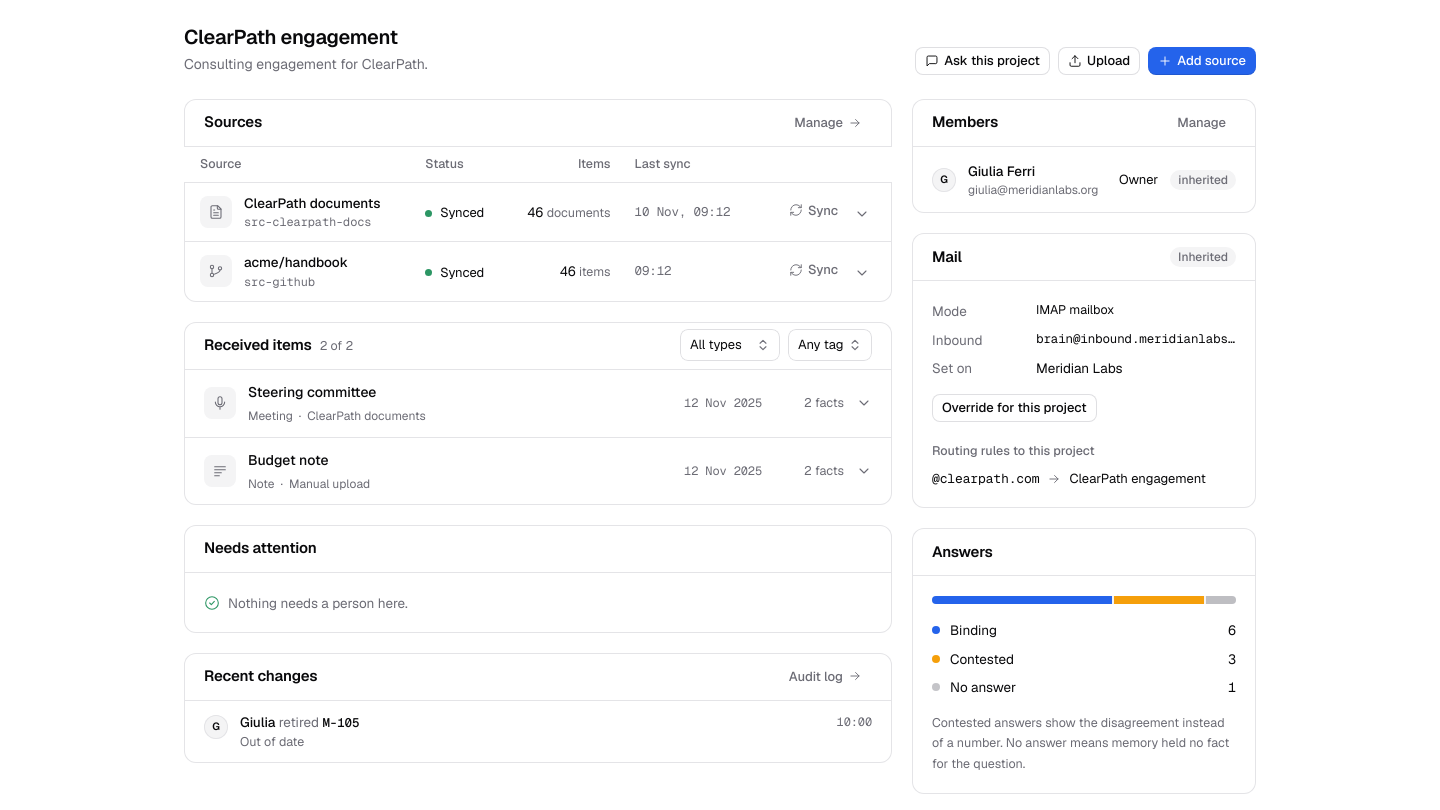
Scenario: Project › upload and add source › clears the item filters once an upload went through, so that the new item is listed
This screenshot has width=1440, height=810.
Expected: the heading "ClearPath engagement" is shown, x1=184 y1=24 x2=428 y2=50
Expected: the text "src-clearpath-docs" is shown, x1=244 y1=213 x2=380 y2=231
Select "Note" in the dropdown named "Filter items by type" at (730, 345), box x1=680 y1=329 x2=780 y2=361
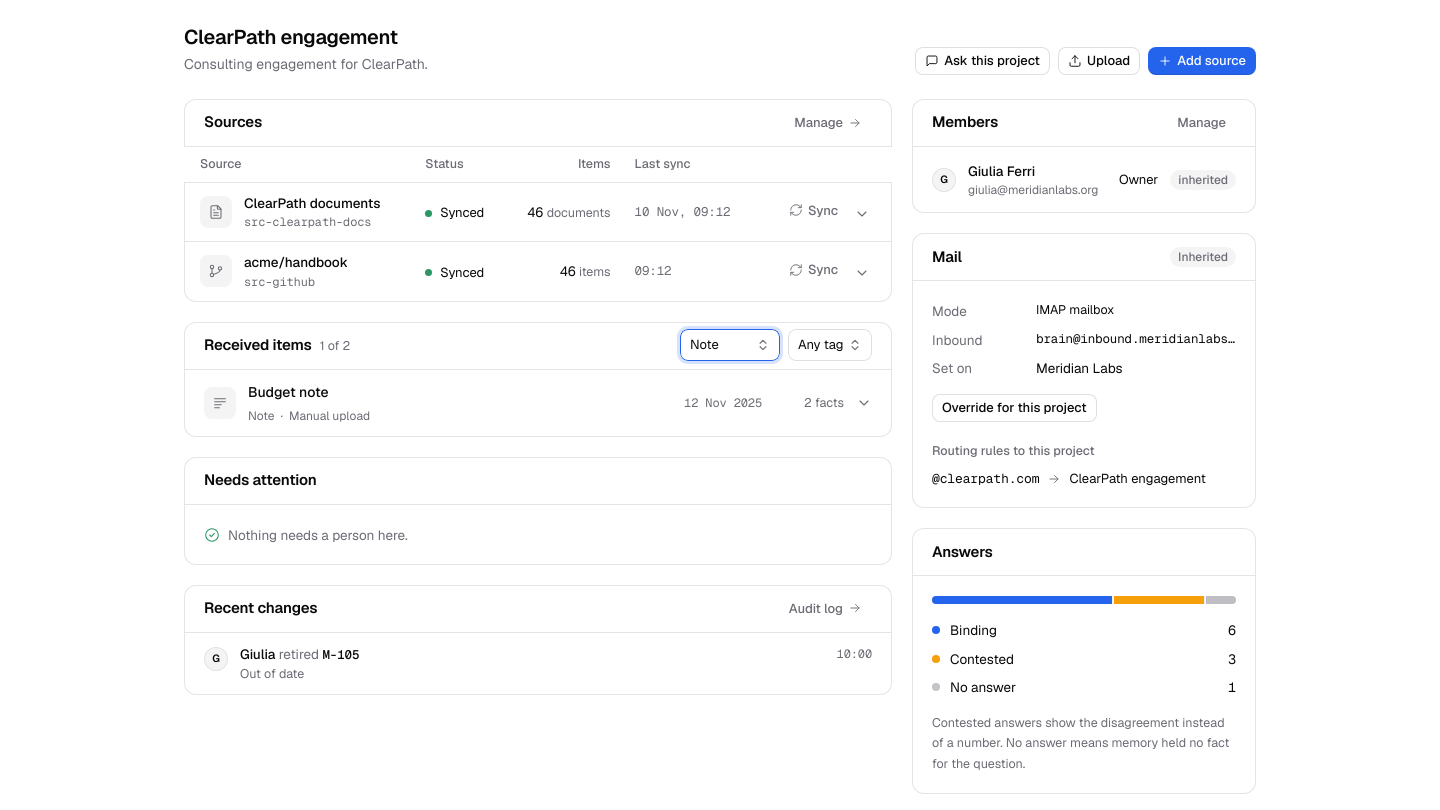
Expected: the text "1 of 2" is shown, x1=320 y1=337 x2=350 y2=356
Click the button "Upload" at (1099, 61), box x1=1058 y1=47 x2=1140 y2=75
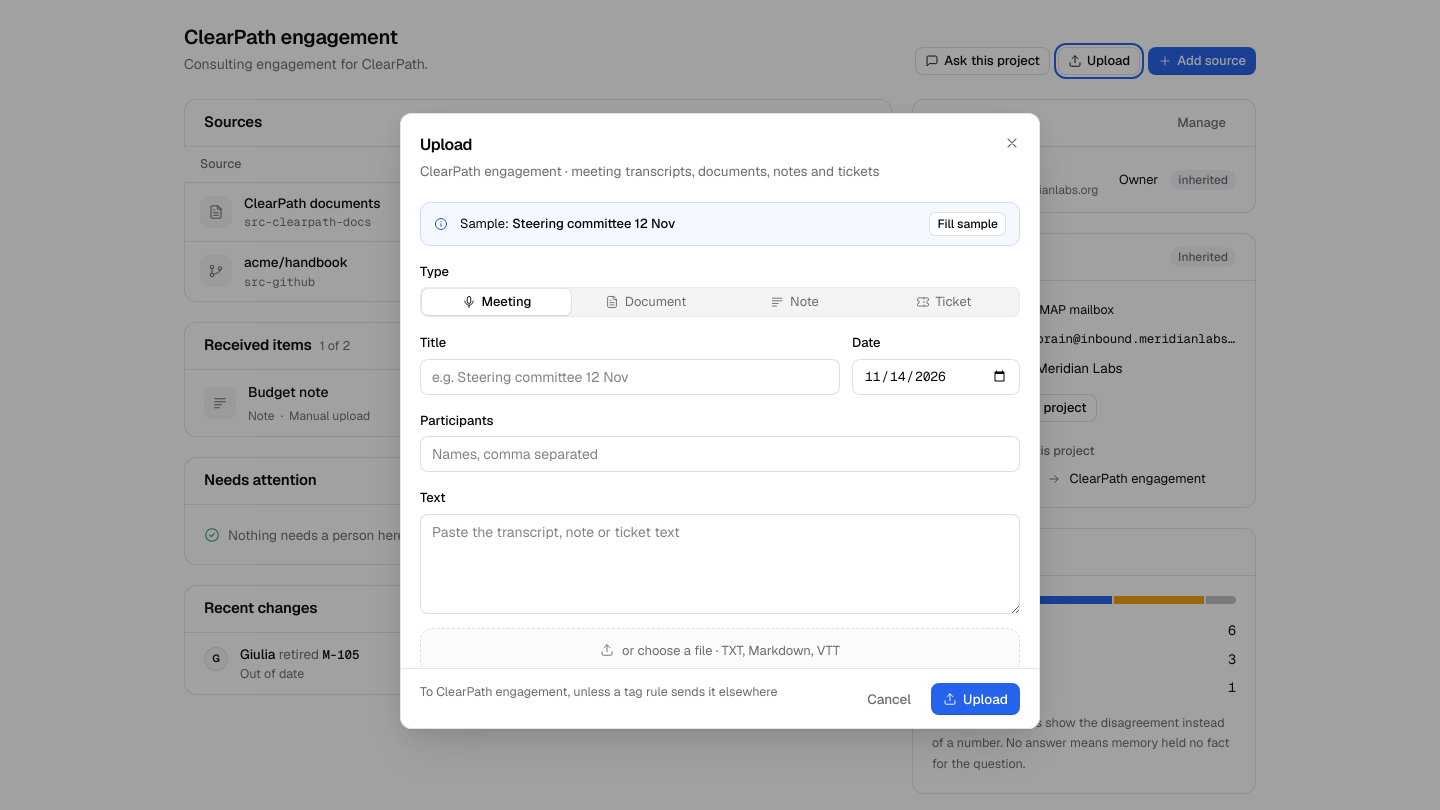
Click the button "Fill sample" at (968, 224), box x1=930 y1=212 x2=1006 y2=236
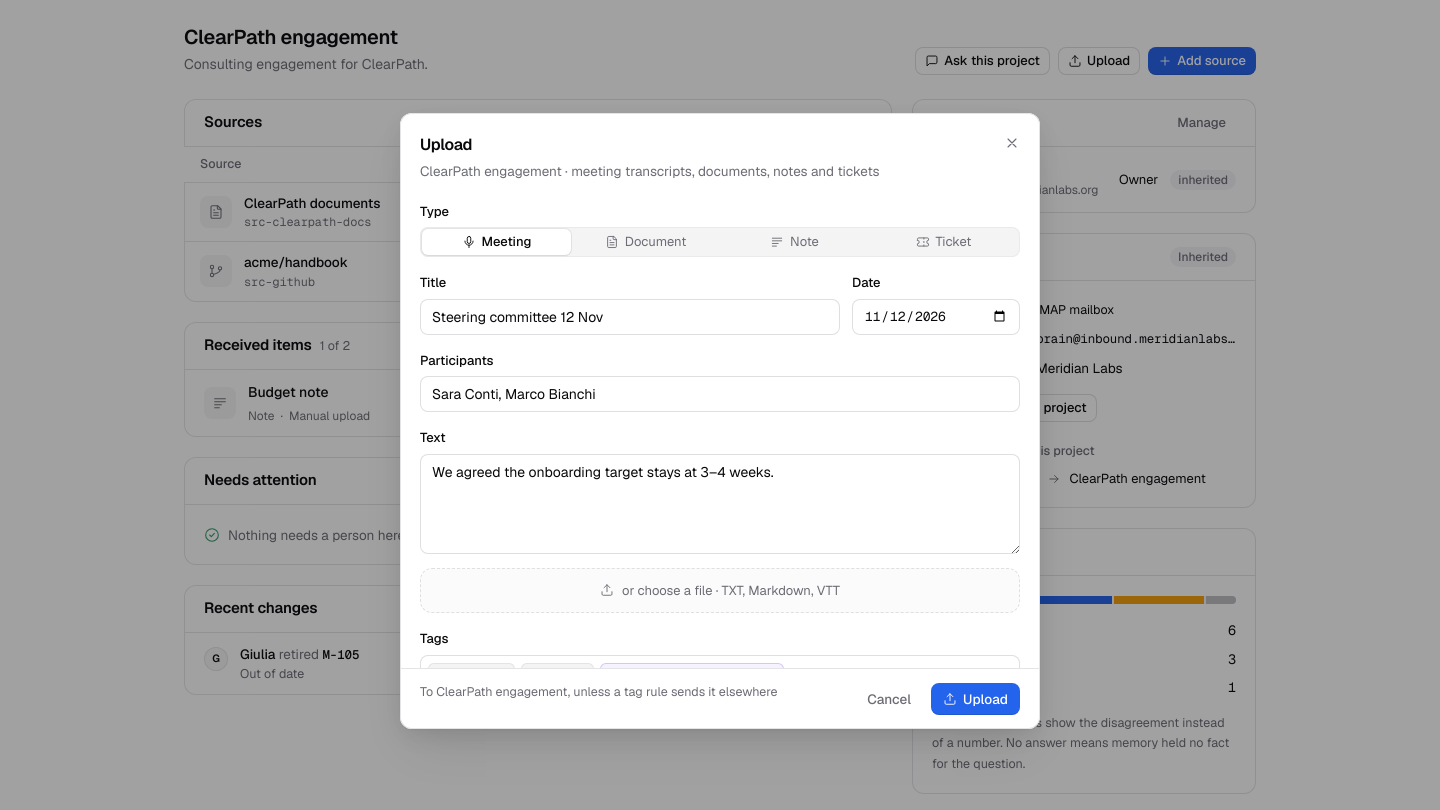
Click the button "Upload" at (976, 699), box x1=931 y1=683 x2=1020 y2=715
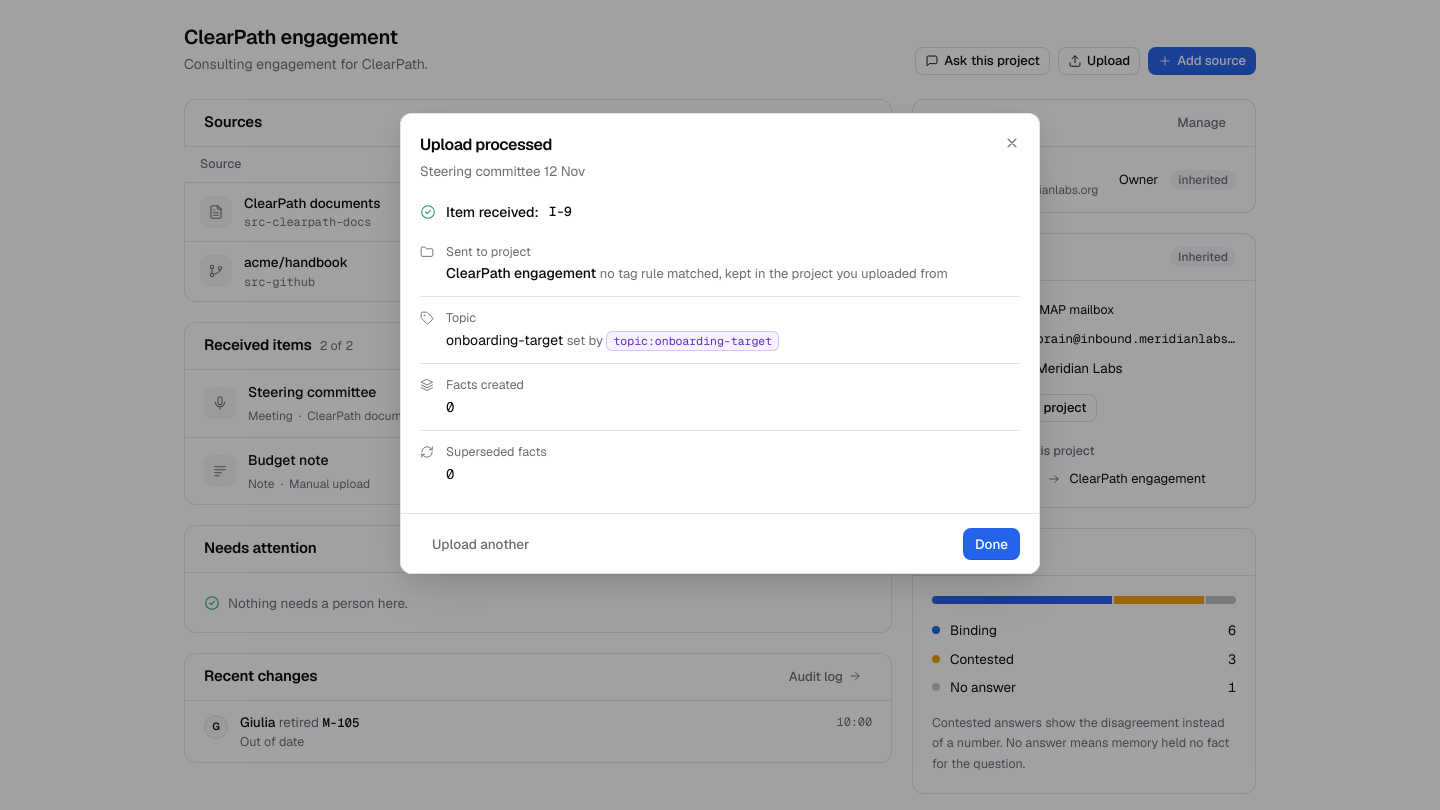
Expected: the heading "Upload processed" is shown, x1=420 y1=134 x2=552 y2=155
Expected: the text "2 of 2" is shown, x1=320 y1=337 x2=353 y2=356
